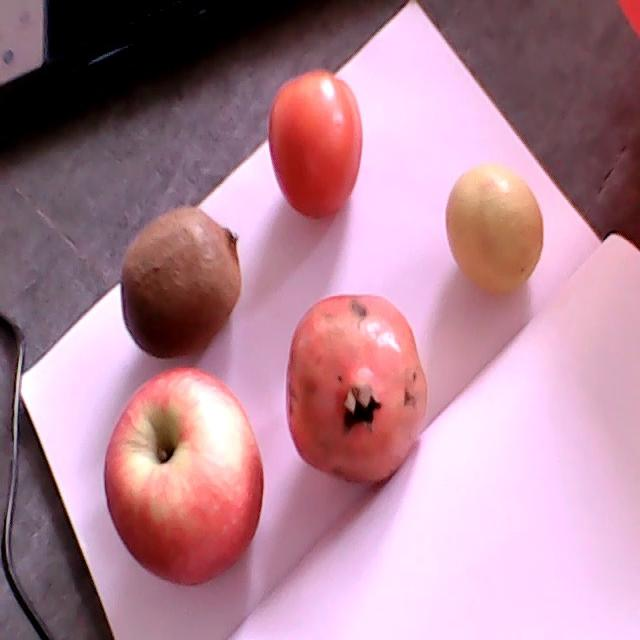apple: (105, 368, 265, 586)
kiwi: (120, 204, 241, 359)
lemon: (446, 165, 543, 293)
pomegranate: (286, 294, 427, 484)
tomato: (268, 70, 363, 219)
